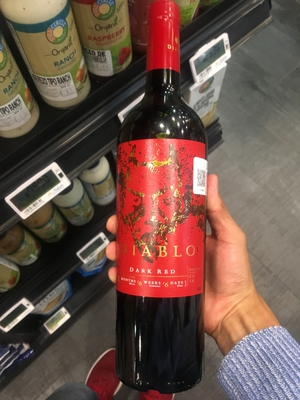diablo dark red: (103, 11, 220, 388)
